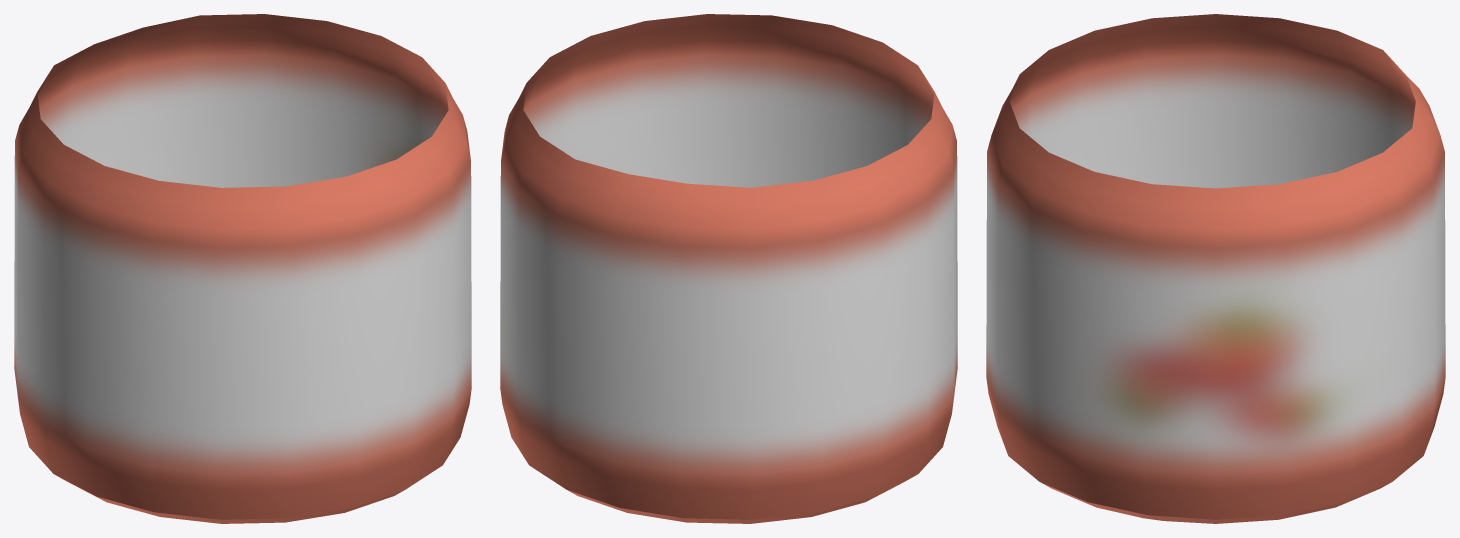
The model's file is jam3.obj.
3 renders of one model, left to right at view 1: azimuth 30°, elevation 25°; view 2: azimuth 150°, elevation 25°; view 3: azimuth 270°, elevation 25°, orthographic.
Parts seen in each view (by area): view 1: _Jar:polySurface1 group62; view 2: _Jar:polySurface1 group62; view 3: _Jar:polySurface1 group62.
Boxes of the visible parts, bbox=[...] form: _Jar:polySurface1 group62: bbox=[14, 14, 471, 523]; _Jar:polySurface1 group62: bbox=[500, 14, 957, 523]; _Jar:polySurface1 group62: bbox=[986, 14, 1445, 523].
Size of the model in its own units: 16.67 by 13.49 by 16.67.
